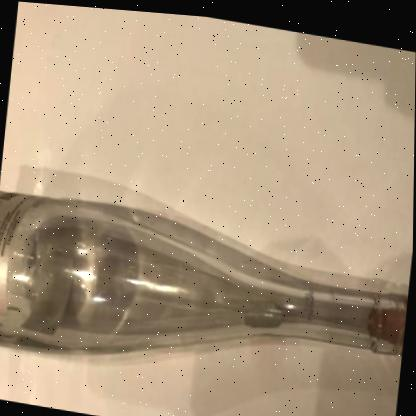Waste: (0, 191, 409, 353)
